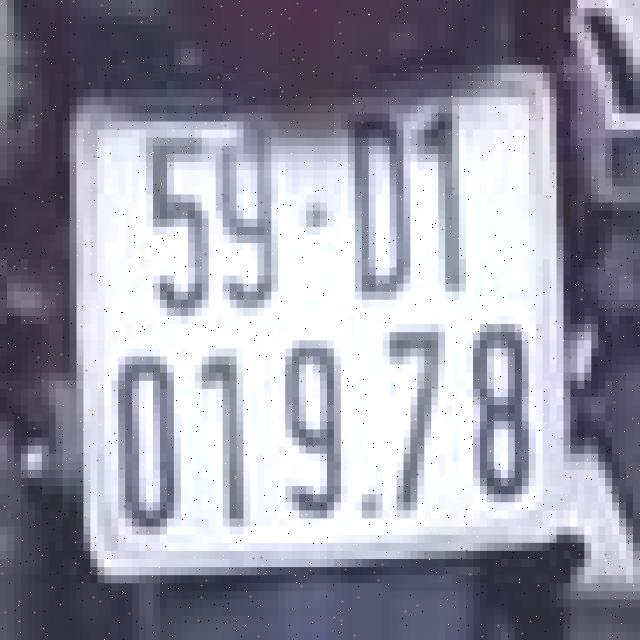0: (87, 340, 177, 551)
1: (417, 97, 487, 308), (188, 340, 243, 535)
5: (136, 118, 212, 336)
7: (358, 316, 449, 518)
8: (466, 312, 543, 506)
9: (264, 324, 355, 527), (216, 122, 292, 324)
D: (337, 93, 421, 312)
